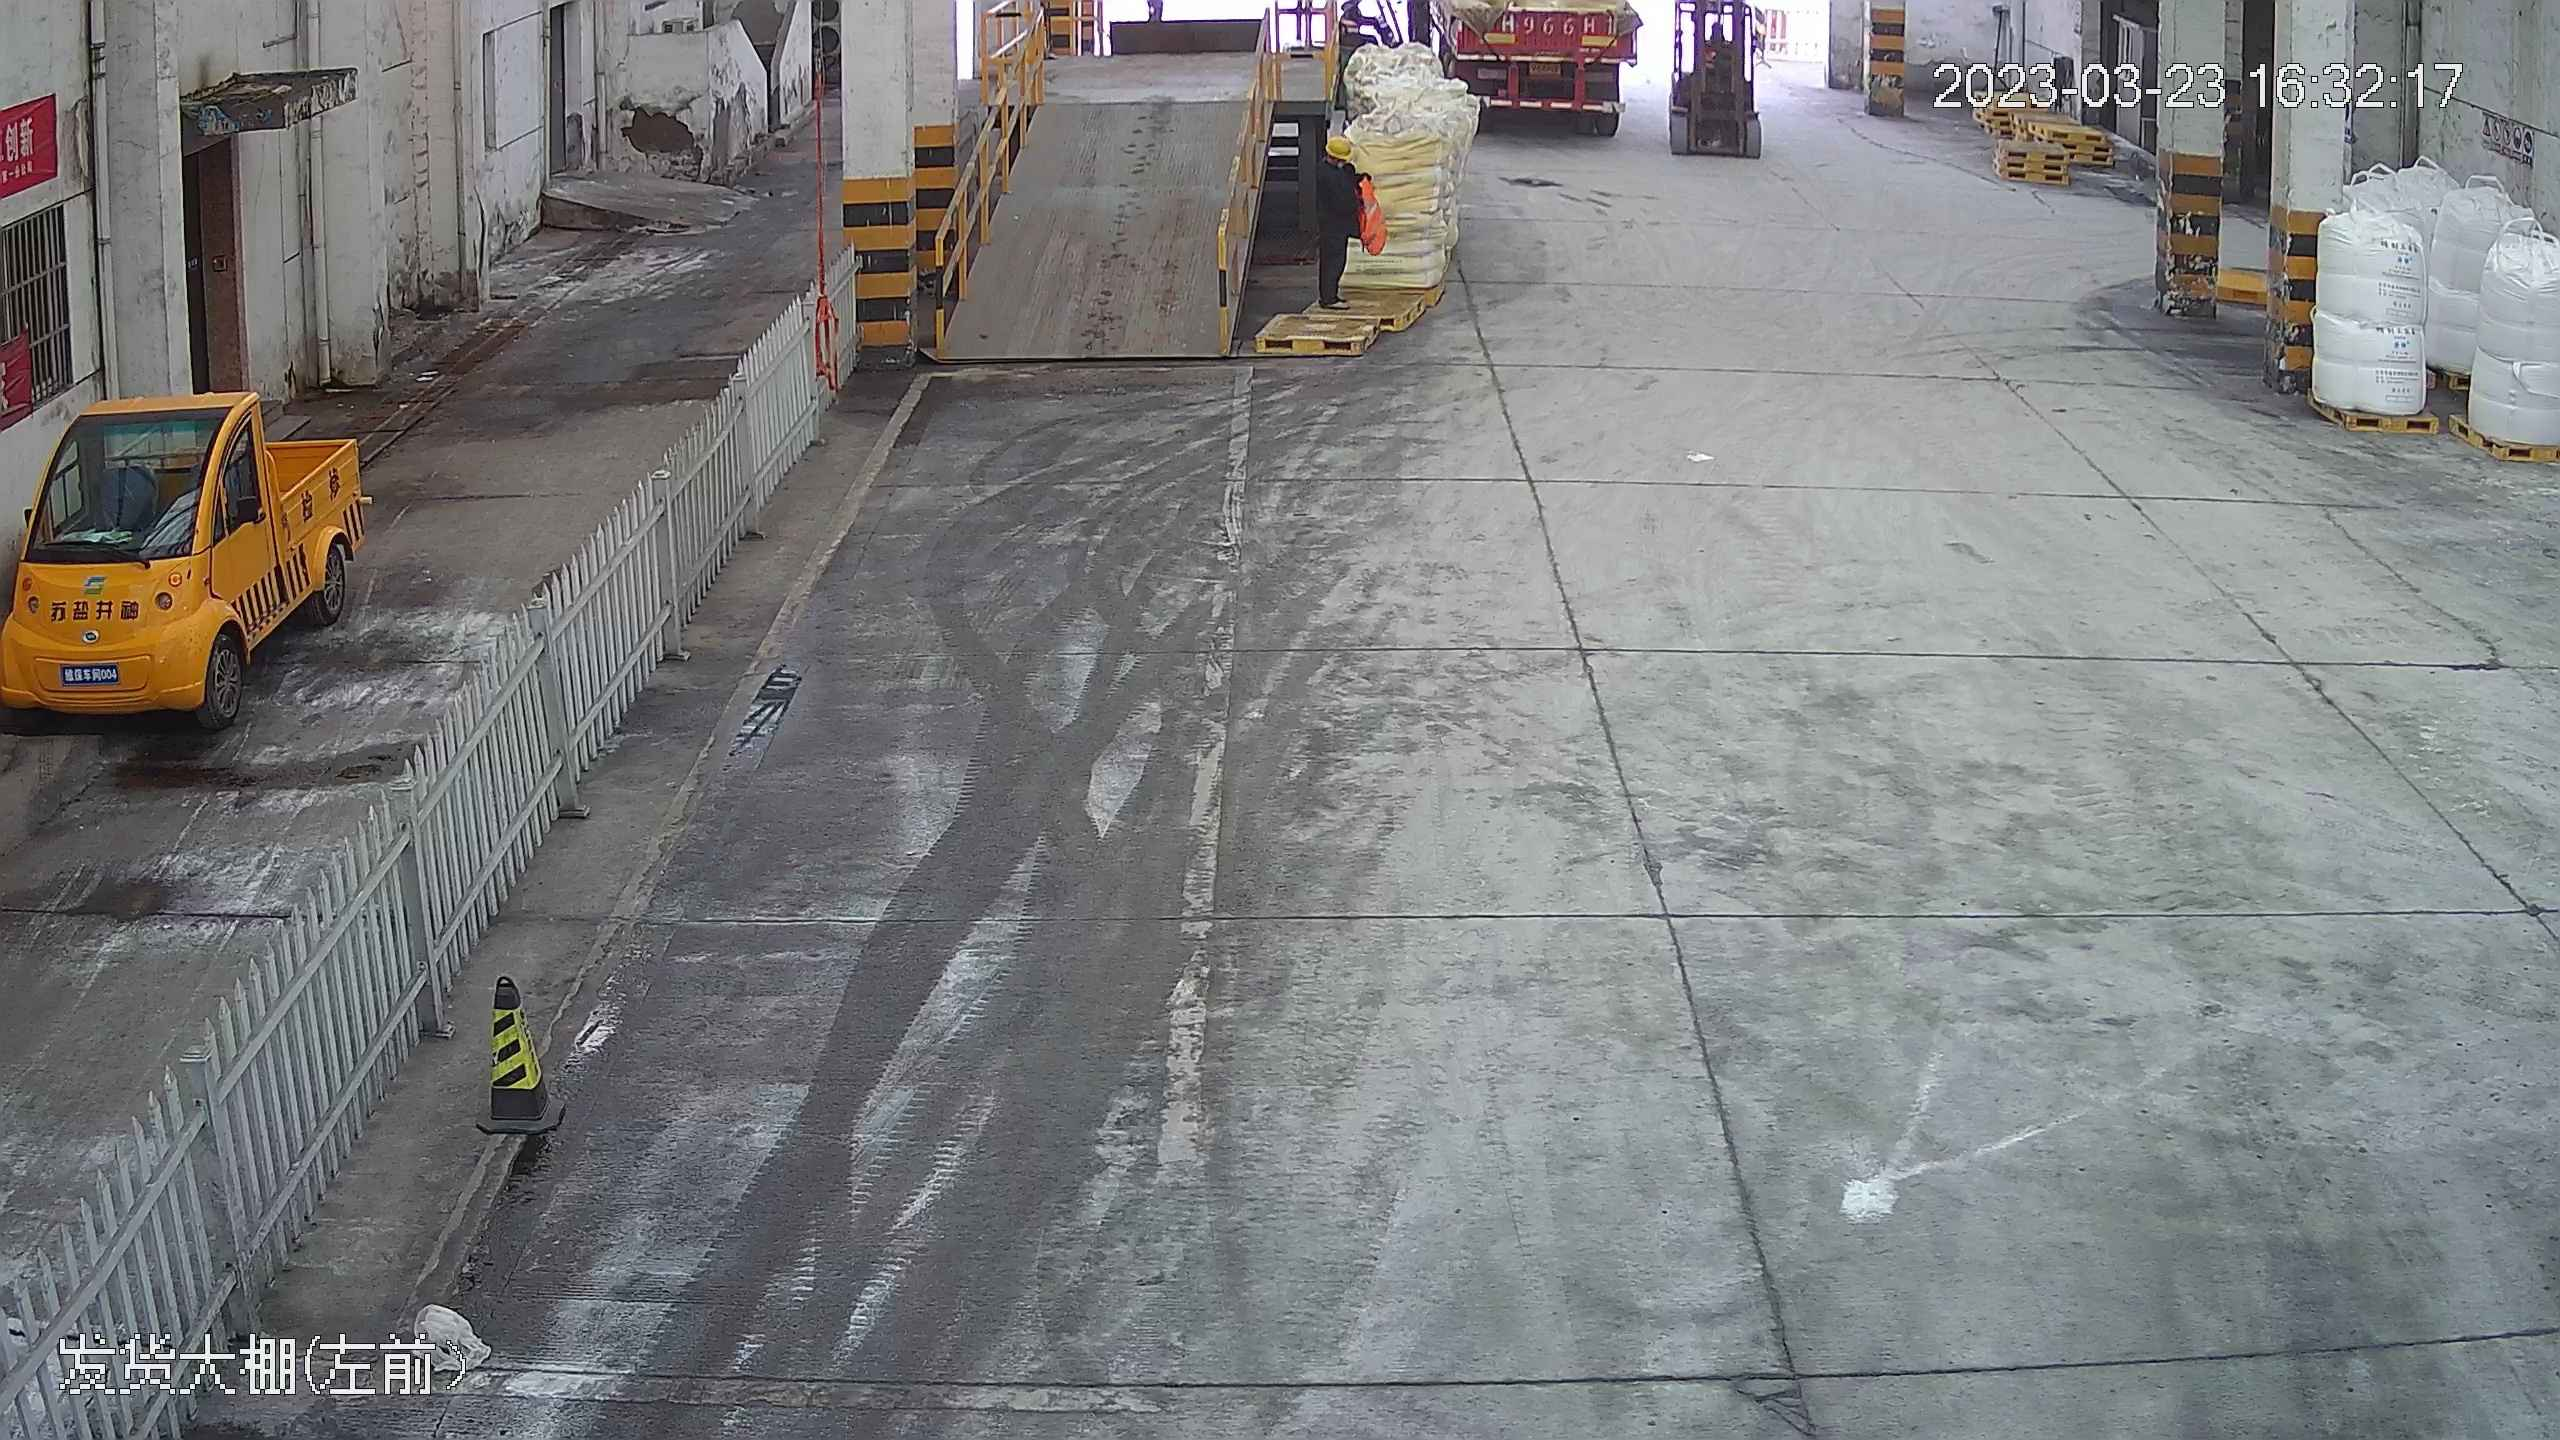head: (1317, 133, 1363, 194)
helmet: (1326, 135, 1351, 156)
people: (1309, 138, 1371, 309)
truck: (1431, 1, 1639, 129)
